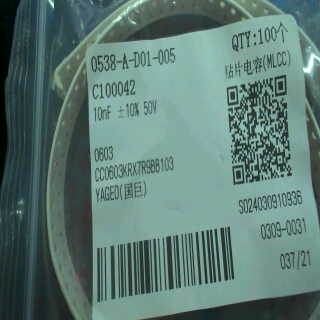10nF: (92, 104, 113, 126)
